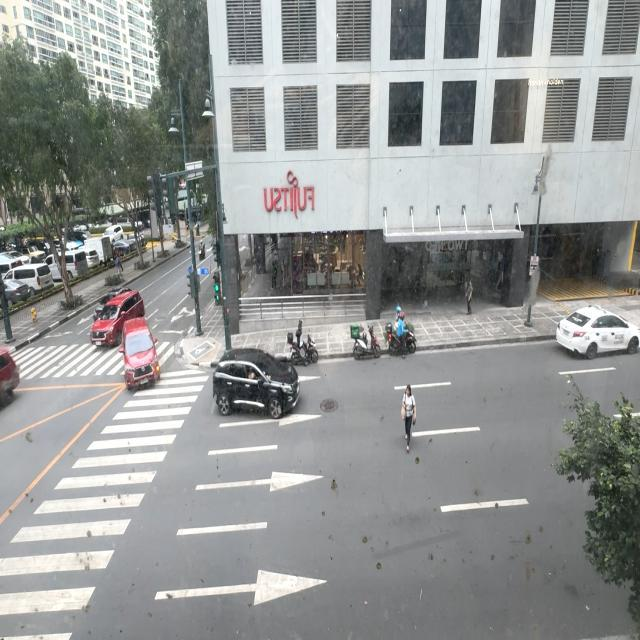jaywalking: (402, 384, 416, 452)
